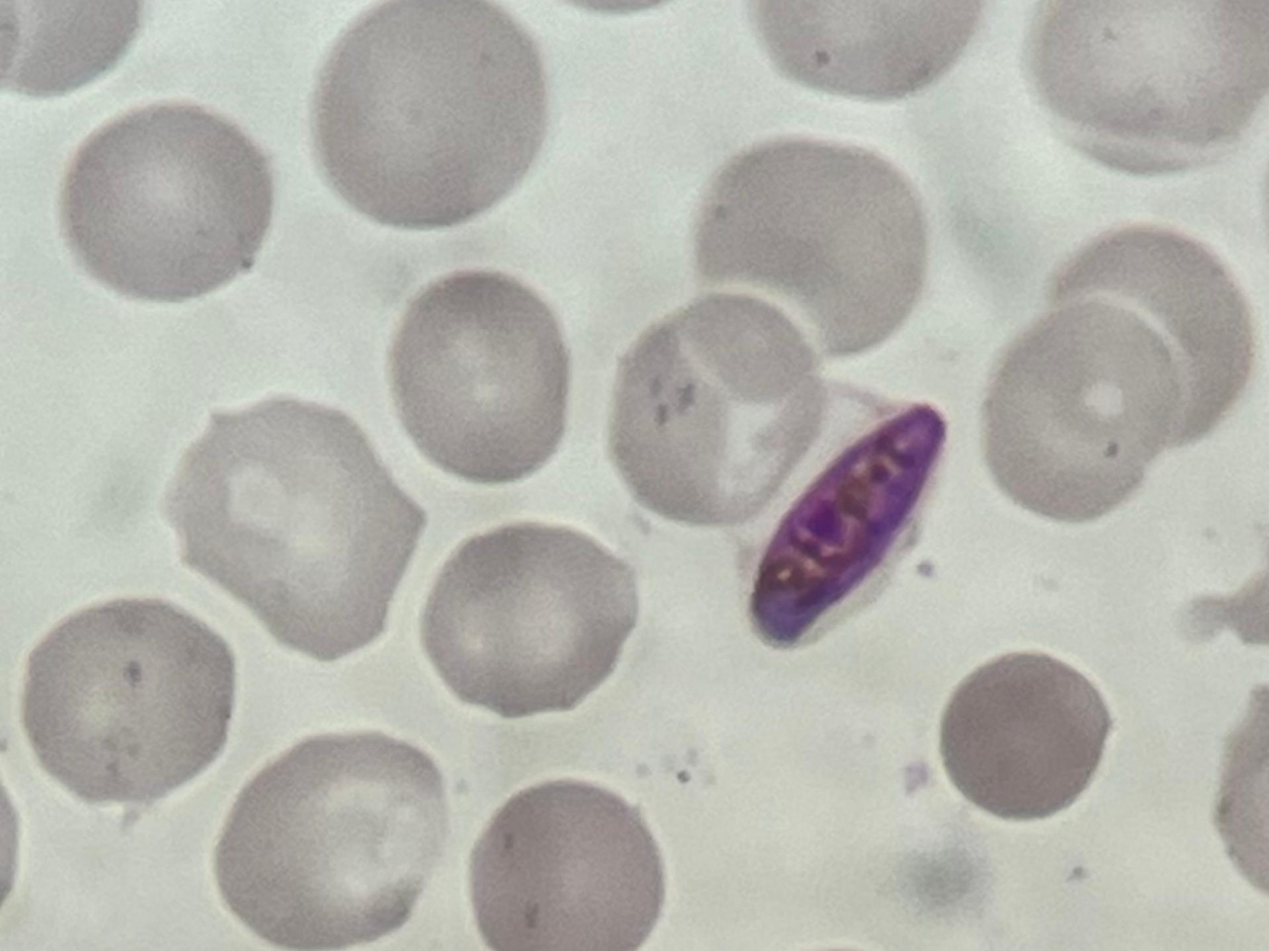Infected: (725, 384, 948, 653)
Uninfected: (164, 397, 426, 660), (309, 0, 549, 230), (606, 291, 829, 524), (215, 731, 448, 951), (692, 139, 929, 353), (1038, 226, 1247, 440), (20, 598, 234, 805), (1024, 0, 1268, 179), (985, 296, 1175, 525), (59, 101, 271, 303), (416, 522, 638, 714), (390, 270, 570, 485), (468, 782, 668, 951), (939, 648, 1114, 822)
